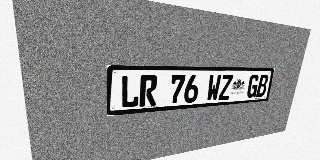6: (183, 75, 200, 103)
7: (168, 75, 186, 104)
B: (256, 74, 269, 97)
G: (246, 74, 260, 98)
L: (120, 75, 140, 108)
R: (139, 75, 158, 107)
W: (206, 75, 222, 101)
Z: (218, 75, 233, 100)
